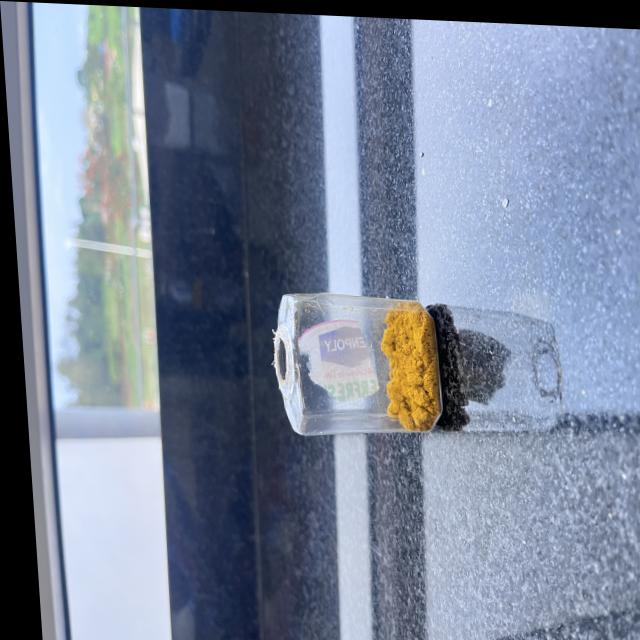curry_powder: (374, 294, 437, 428)
